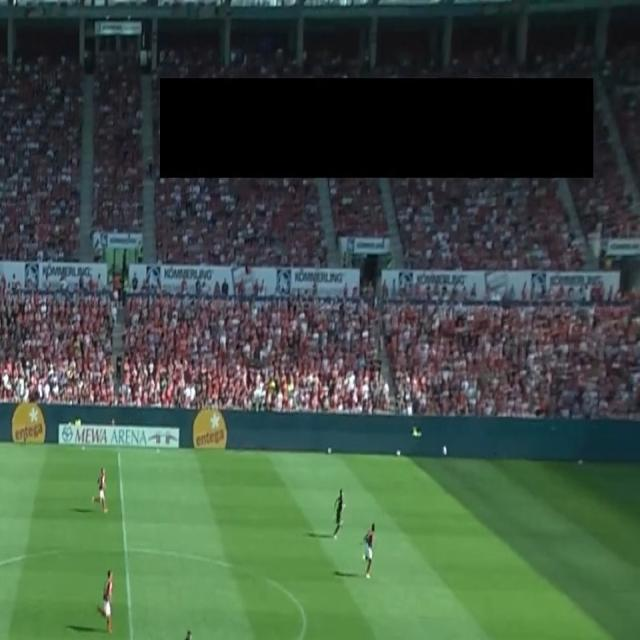ball: (442, 445, 448, 456)
